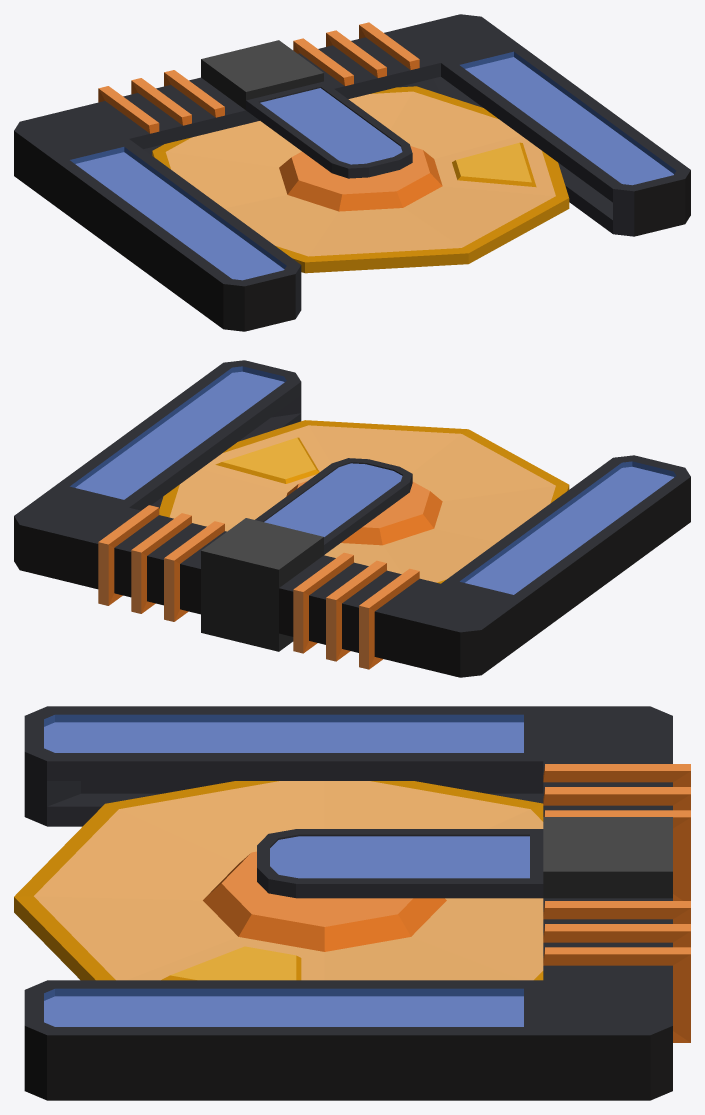
File: DiscSciFi_01.glb
3 renders of one model, top to bottom at view 1: azimuth 30°, elevation 25°; view 2: azimuth 150°, elevation 25°; view 3: azimuth 270°, elevation 25°, orthographic. The views are drawn at different scales.
Visible parts, largest first — view 1: DiscSciFi_01; view 2: DiscSciFi_01; view 3: DiscSciFi_01.
Part boxes in pixels (bbox=[...]): DiscSciFi_01: bbox=[14, 14, 690, 331]; DiscSciFi_01: bbox=[14, 360, 690, 677]; DiscSciFi_01: bbox=[14, 706, 690, 1100].
Size of what is drawn, in the model's own units: 0.3622 by 0.0608 by 0.3152.
1 material, 1 textured.
